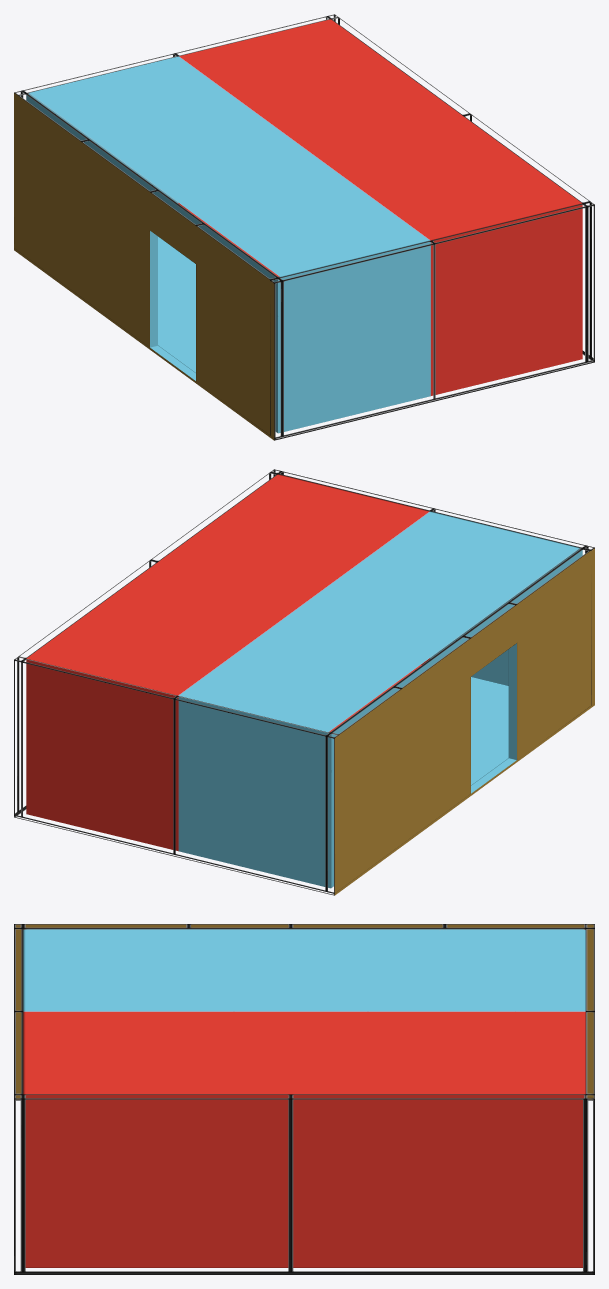
The model's file is bedroomwalls.fbx.
3 renders of one model, top to bottom at view 1: azimuth 30°, elevation 25°; view 2: azimuth 150°, elevation 25°; view 3: azimuth 270°, elevation 25°, orthographic. The views are drawn at different scales.
Parts seen in each view (by area): view 1: Cube; view 2: Cube; view 3: Cube.
Part boxes in pixels (bbox=[...]): Cube: bbox=[14, 14, 594, 440]; Cube: bbox=[14, 469, 594, 895]; Cube: bbox=[14, 924, 594, 1274].
Bounding box in the file's own units: 3180 × 1493 × 4467.
Materials: 1 (1 with a texture image).
